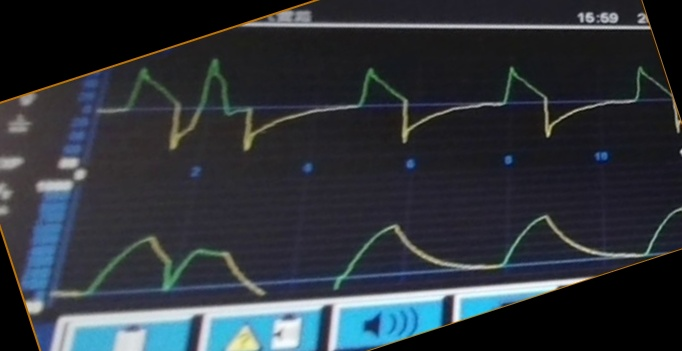Double_Triggering Flow: (97, 59, 660, 149)
Double_Triggering Volume: (68, 213, 662, 299)
